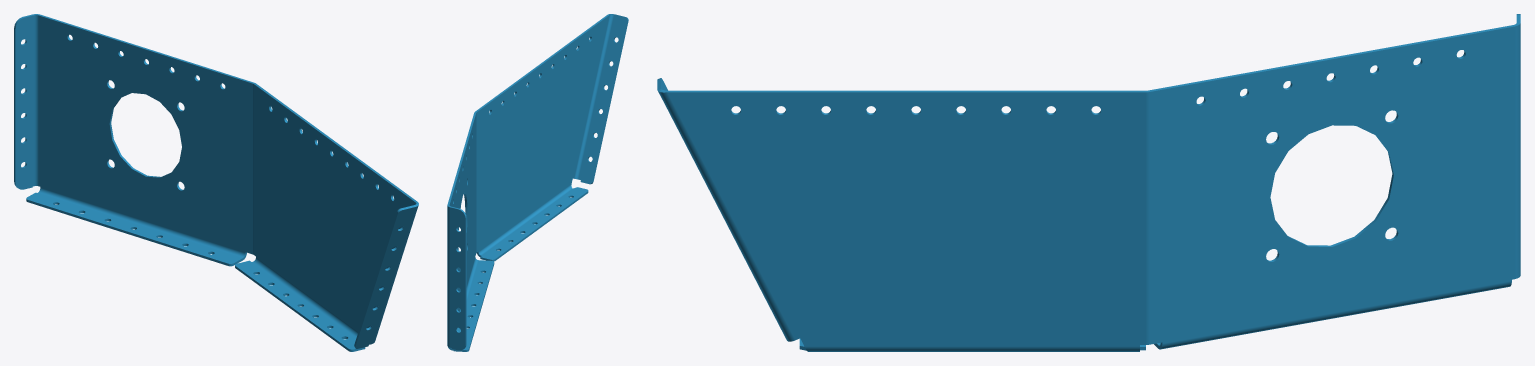
3 renders of one model, left to right at view 1: azimuth 30°, elevation 25°; view 2: azimuth 150°, elevation 25°; view 3: azimuth 270°, elevation 25°, orthographic. The views are drawn at different scales.
Visible parts, largest first — view 1: mesh1074, mesh996, mesh1040, mesh1065, mesh1049, mesh1056, mesh1032, mesh1018, mesh985, mesh1035, mesh999, mesh1003 (+3 smaller); view 2: mesh996, mesh1048, mesh1041, mesh1074, mesh1056, mesh1065, mesh1008, mesh985, mesh1017, mesh999, mesh1011, mesh1003 (+3 smaller); view 3: mesh970, mesh1075, mesh1007, mesh1031, mesh983, mesh1017, mesh999, mesh1001, mesh1003.
Part boxes in pixels (box(x1,y1,x2,y2)): mesh1074: box(38, 15, 252, 254); mesh996: box(254, 84, 415, 331); mesh1040: box(15, 15, 34, 189); mesh1065: box(26, 192, 242, 263); mesh1049: box(355, 207, 415, 348); mesh1056: box(235, 260, 356, 349); mesh1032: box(38, 188, 245, 257); mesh1018: box(34, 15, 38, 186); mesh985: box(253, 257, 357, 337); mesh1035: box(27, 200, 227, 265); mesh999: box(254, 83, 417, 202); mesh1003: box(39, 14, 253, 83); mesh996: box(476, 15, 609, 252); mesh1048: box(578, 14, 627, 183); mesh1041: box(450, 207, 465, 350); mesh1074: box(449, 113, 476, 311); mesh1056: box(480, 187, 588, 259); mesh1065: box(458, 260, 494, 349); mesh1008: box(574, 14, 614, 179); mesh985: box(478, 184, 572, 255); mesh1017: box(447, 206, 449, 347); mesh999: box(475, 14, 608, 112); mesh1011: box(592, 21, 628, 181); mesh1003: box(447, 112, 475, 204); mesh970: box(667, 92, 1145, 346); mesh1075: box(1149, 26, 1514, 344); mesh1007: box(658, 91, 795, 341); mesh1031: box(1160, 281, 1511, 349); mesh983: box(804, 346, 1139, 351); mesh1017: box(1514, 23, 1520, 278); mesh999: box(667, 90, 1145, 92); mesh1001: box(1146, 92, 1149, 344); mesh1003: box(1148, 25, 1514, 91).
Size of the model in its own units: 0.0661 by 0.0973 by 0.2896.
